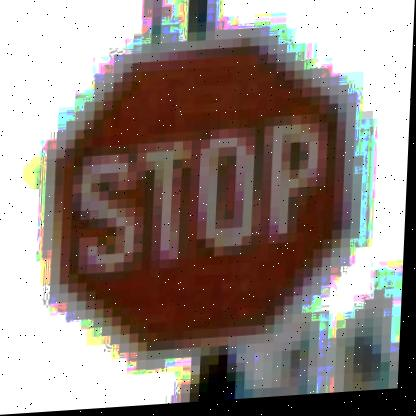Stop Sign: (33, 22, 371, 372)
